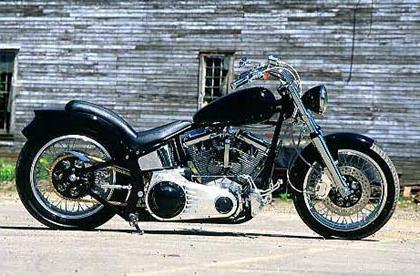motorcycle: (4, 50, 420, 251)
